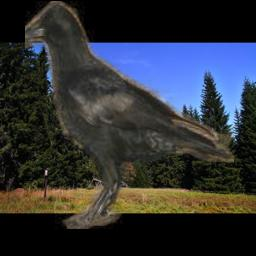Crow: (25, 1, 234, 229)
